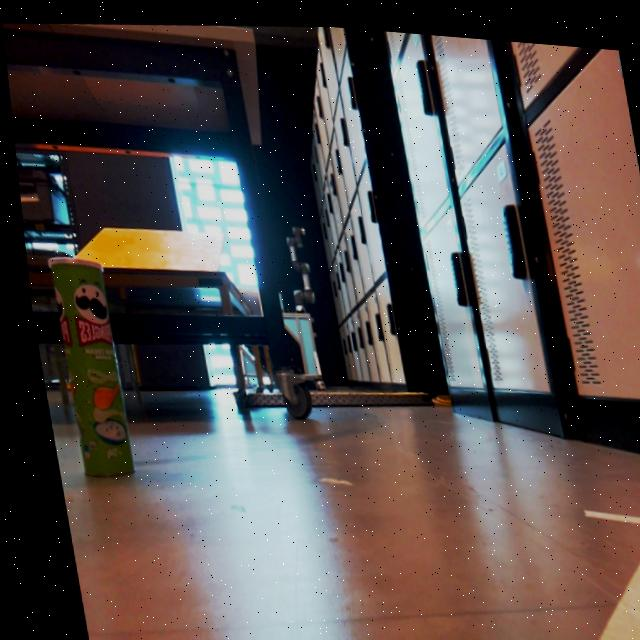greenpringles: (28, 236, 143, 495)
